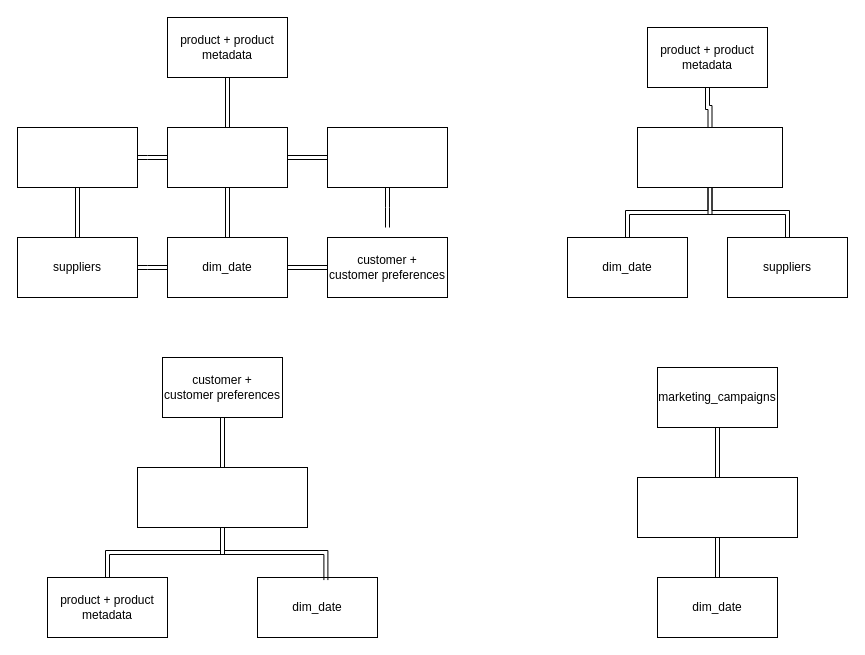
The diagram is 865 pixels wide and 655 high, and some of its shapes have lost their labels. Here are the shapes that lost their labels. From the top down, the box of each, then its label:
(16, 126, 138, 188): deliveries
(166, 126, 288, 188): fact_sales
(326, 126, 448, 188): stores
(636, 126, 782, 188): fact_inventory_movements
(136, 466, 308, 528): fact_customer_engagement
(636, 476, 798, 538): fact_campaign_performance
